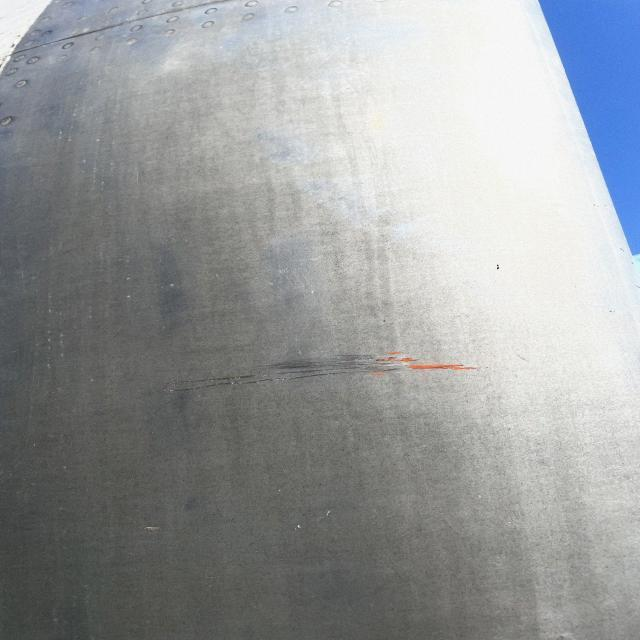crack: (167, 361, 450, 396)
